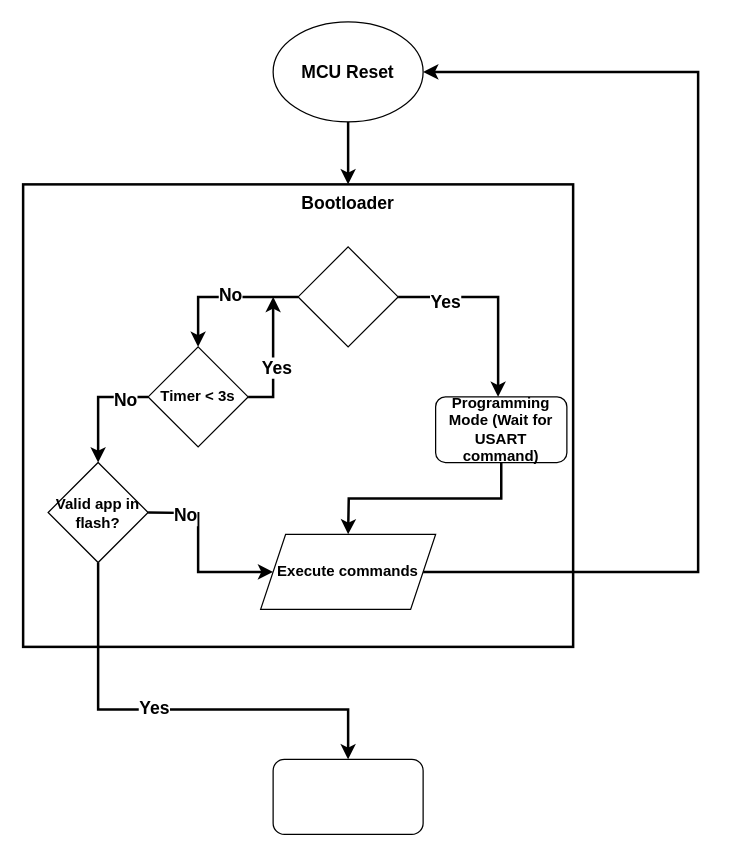
The diagram is 730 pixels wide and 856 high, and some of its shapes have lost their labels. Here are the shapes that lost their labels. From the top down, the centre of each, then its label:
At point 347,296: "Button Pressed".
At point 347,796: "Application".
